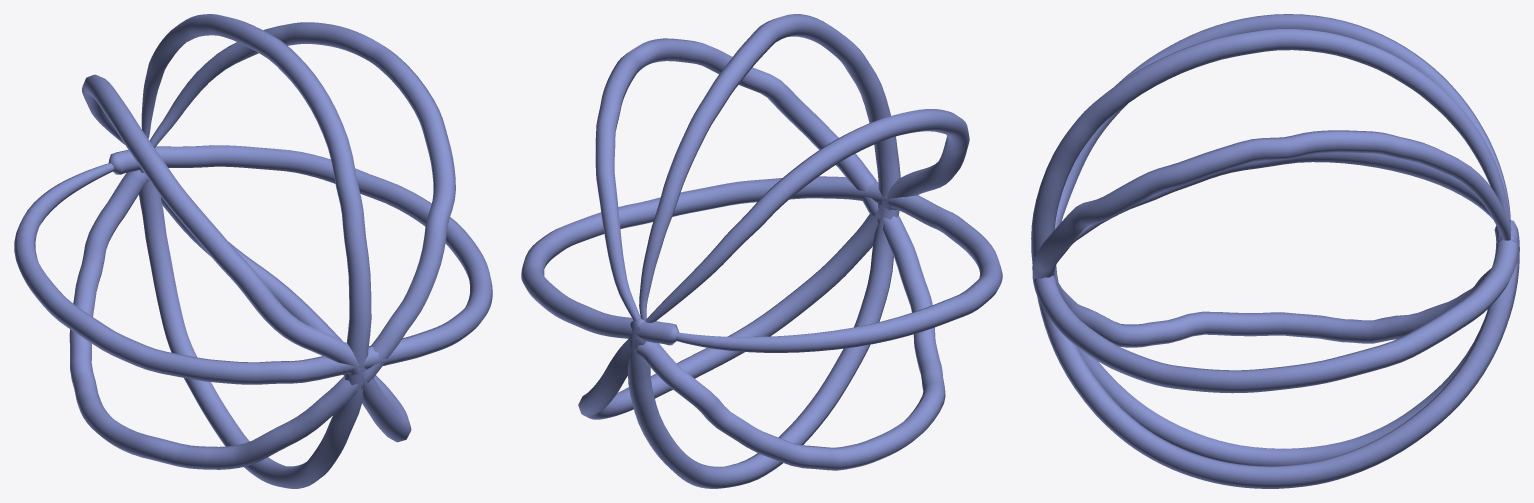
3 views of the same model, side by side, from view 1: azimuth 30°, elevation 25°; view 2: azimuth 150°, elevation 25°; view 3: azimuth 270°, elevation 25° (orthographic).
Parts seen in each view (by area): view 1: brush_ChromaticWave_g0_b0; view 2: brush_ChromaticWave_g0_b0; view 3: brush_ChromaticWave_g0_b0.
Boxes of the visible parts, left/top/right/bottom form: brush_ChromaticWave_g0_b0: left=14, top=14, right=492, bottom=488; brush_ChromaticWave_g0_b0: left=521, top=14, right=1002, bottom=488; brush_ChromaticWave_g0_b0: left=1031, top=14, right=1519, bottom=488.
Bounding box in the file's own units: 2.06 × 2.08 × 2.08.
